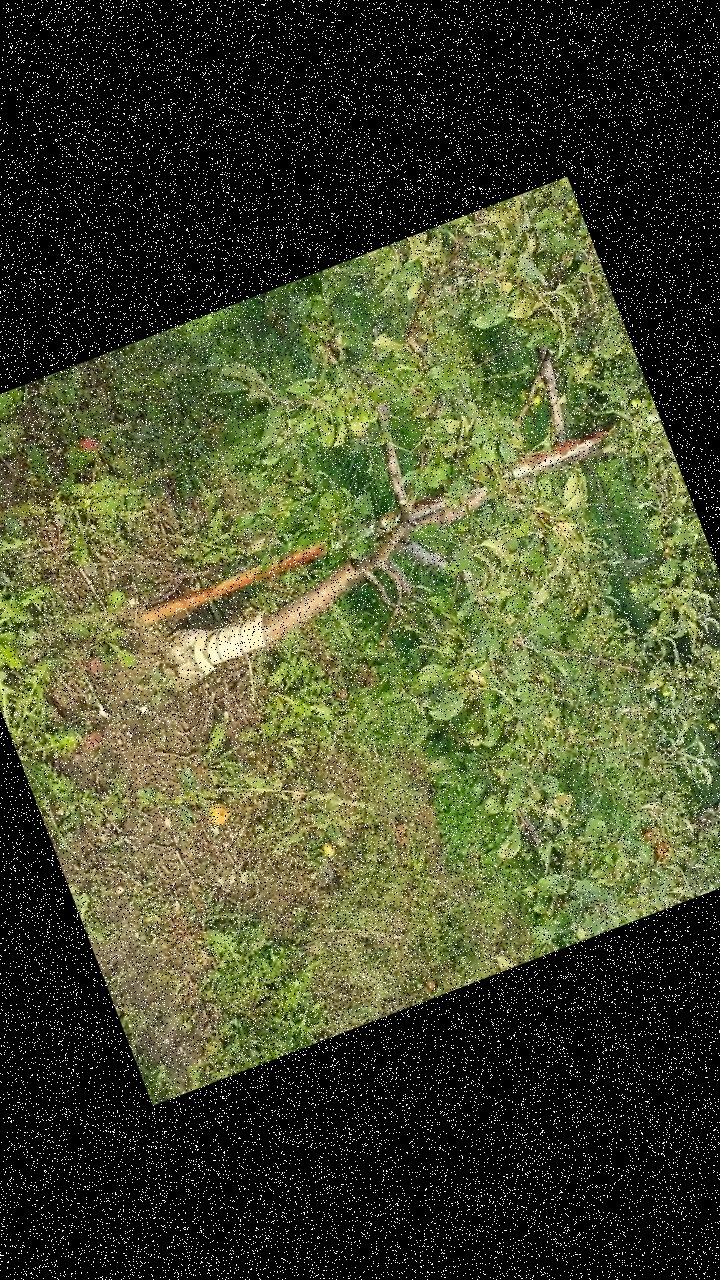Apple: (652, 838, 675, 859)
